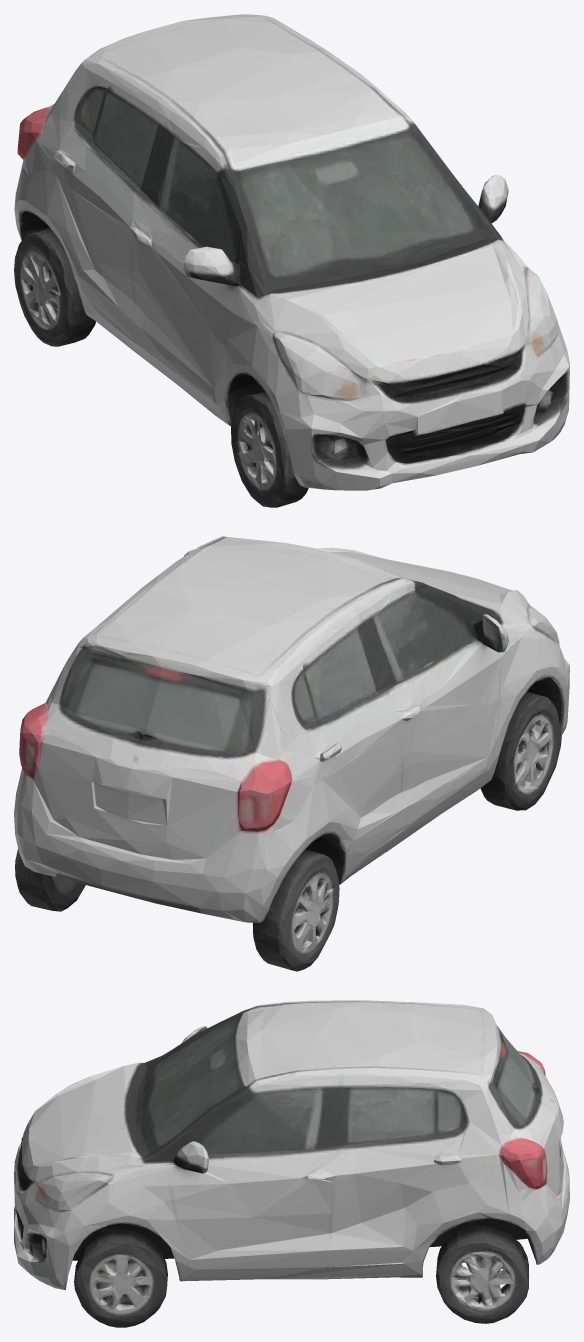
File: car0.glb
3 views of the same model, one above another, from view 1: azimuth 30°, elevation 25°; view 2: azimuth 150°, elevation 25°; view 3: azimuth 270°, elevation 25° (orthographic). The views are drawn at different scales.
Parts seen in each view (by area): view 1: geometry_0; view 2: geometry_0; view 3: geometry_0.
Boxes of the visible parts, <box> form: geometry_0: <box>14,14,569,507</box>; geometry_0: <box>14,536,569,971</box>; geometry_0: <box>14,1000,569,1327</box>.
Size of the model in its own units: 0.5565 by 0.4747 by 0.9979.
1 material, 1 textured.
